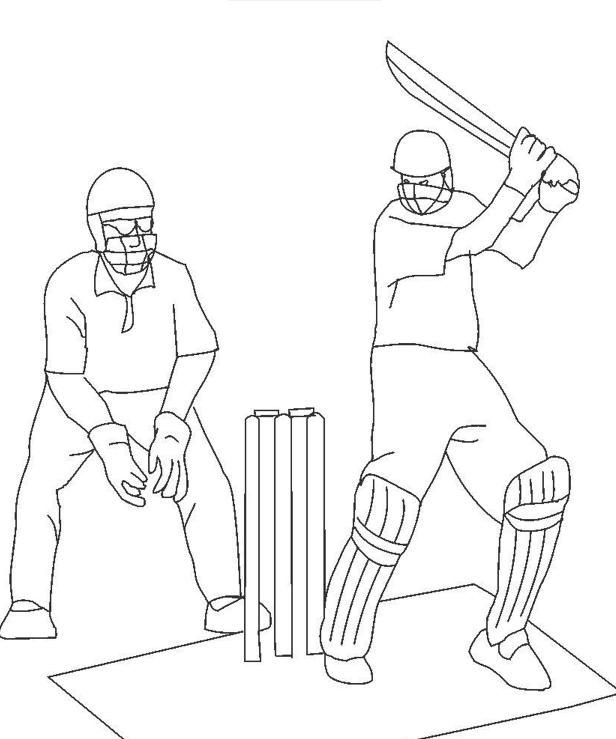batsman: (321, 37, 583, 692)
